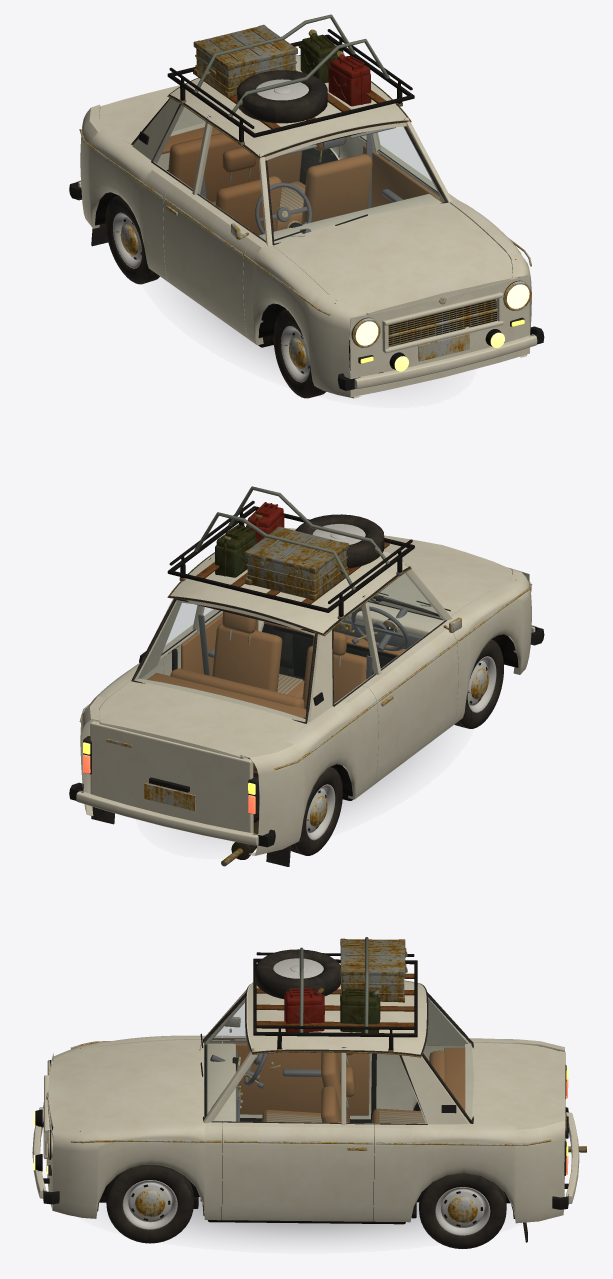
The model's file is trabant.glb.
3 views of the same model, one above another, from view 1: azimuth 30°, elevation 25°; view 2: azimuth 150°, elevation 25°; view 3: azimuth 270°, elevation 25° (orthographic). The views are drawn at different scales.
Parts seen in each view (by area): view 1: K13_Duroplast_Bonnet, K41_Seats_All, K22_Windshield, K13_Front_Fascia, K17_Duroplast_Door_L, K13_Duroplast_Fender_FL, K13_Duroplast_Fender_RL, K22_SideGlass_L, K13_Duroplast_Roof, Exp_RoofRack, Exp_CargoBox, K07_Pillar_All (+18 smaller); view 2: K22_RearWindow, K07_Rear_Panel, K13_Duroplast_Fender_RL, K41_Seats_All, K13_Duroplast_TrunkLid, K17_Duroplast_Door_L, K22_SideGlass_L, K13_Duroplast_Roof, K13_Duroplast_Bonnet, K13_Duroplast_Fender_FL, Exp_CargoBox, Exp_RoofRack (+16 smaller); view 3: K13_Duroplast_Fender_RR, K17_Duroplast_Door_R, K13_Duroplast_Bonnet, K22_SideGlass_R, K13_Duroplast_Fender_FR, K41_Seats_All, K13_Duroplast_TrunkLid, K13_Duroplast_Roof, K07_Pillar_All, Exp_RoofRack, Exp_CargoBox, F49_Wheel_FR_Tire (+20 smaller).
Boxes of the visible parts, x1,y1,x2,y2 form: K13_Duroplast_Bonnet: [272, 202, 512, 314]; K41_Seats_All: [162, 127, 440, 235]; K22_Windshield: [268, 127, 444, 242]; K13_Front_Fascia: [350, 274, 529, 397]; K17_Duroplast_Door_L: [163, 181, 259, 338]; K13_Duroplast_Fender_FL: [243, 238, 367, 398]; K13_Duroplast_Fender_RL: [80, 104, 181, 281]; K22_SideGlass_L: [153, 105, 265, 240]; K13_Duroplast_Roof: [167, 55, 411, 159]; Exp_RoofRack: [167, 14, 414, 145]; Exp_CargoBox: [193, 24, 297, 98]; K07_Pillar_All: [132, 98, 452, 245]; K22_RearWindow: [135, 600, 314, 721]; K07_Rear_Panel: [90, 720, 253, 833]; K13_Duroplast_Fender_RL: [240, 685, 378, 866]; K41_Seats_All: [147, 611, 366, 773]; K13_Duroplast_TrunkLid: [99, 678, 308, 757]; K17_Duroplast_Door_L: [360, 625, 458, 784]; K22_SideGlass_L: [334, 573, 444, 703]; K13_Duroplast_Roof: [167, 528, 411, 636]; K13_Duroplast_Bonnet: [377, 535, 512, 615]; K13_Duroplast_Fender_FL: [441, 569, 531, 724]; Exp_CargoBox: [244, 526, 349, 600]; Exp_RoofRack: [167, 486, 414, 620]; K13_Duroplast_Fender_RR: [373, 1105, 564, 1242]; K17_Duroplast_Door_R: [222, 1122, 374, 1221]; K13_Duroplast_Bonnet: [47, 1039, 204, 1129]; K22_SideGlass_R: [214, 1053, 426, 1123]; K13_Duroplast_Fender_FR: [52, 1121, 222, 1220]; K41_Seats_All: [234, 1043, 465, 1135]; K13_Duroplast_TrunkLid: [465, 1042, 565, 1124]; K13_Duroplast_Roof: [245, 980, 428, 1057]; K07_Pillar_All: [203, 982, 468, 1125]; Exp_RoofRack: [253, 937, 417, 1053]; Exp_CargoBox: [340, 938, 407, 1002]; F49_Wheel_FR_Tire: [106, 1164, 193, 1243].
Bounding box in the file's own units: 1.96 × 1.81 × 3.78.
25 materials, 18 textured.
